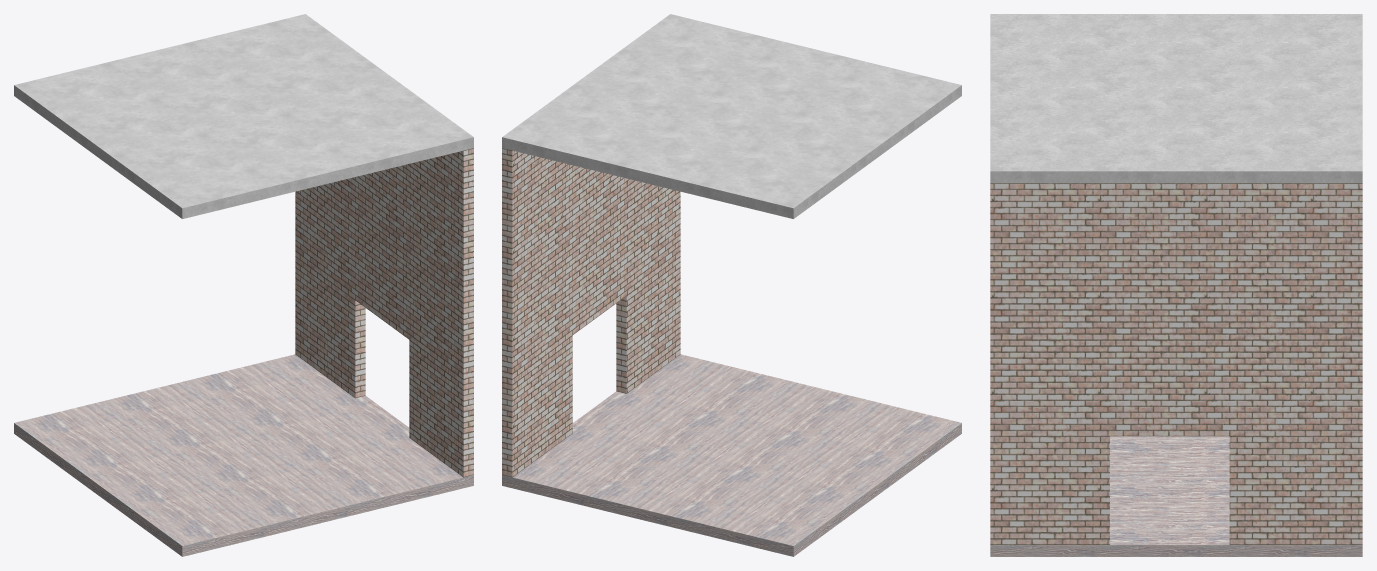
File: OLD_WallVent.obj
3 renders of one model, left to right at view 1: azimuth 30°, elevation 25°; view 2: azimuth 150°, elevation 25°; view 3: azimuth 270°, elevation 25°, orthographic. The views are drawn at different scales.
Visible parts, largest first — view 1: Ceiling1, Floor1, Union1; view 2: Ceiling1, Floor1, Union1; view 3: Union1, Ceiling1, Floor1.
Part boxes in pixels (left/top/right/bottom): Ceiling1: left=14, top=14, right=473, bottom=218; Floor1: left=14, top=354, right=473, bottom=556; Union1: left=295, top=148, right=473, bottom=477; Ceiling1: left=502, top=14, right=961, bottom=218; Floor1: left=502, top=354, right=961, bottom=556; Union1: left=502, top=148, right=680, bottom=477; Union1: left=990, top=183, right=1362, bottom=544; Ceiling1: left=990, top=14, right=1362, bottom=183; Floor1: left=990, top=436, right=1362, bottom=556.
Size of the model in its own units: 28 by 32 by 28.
